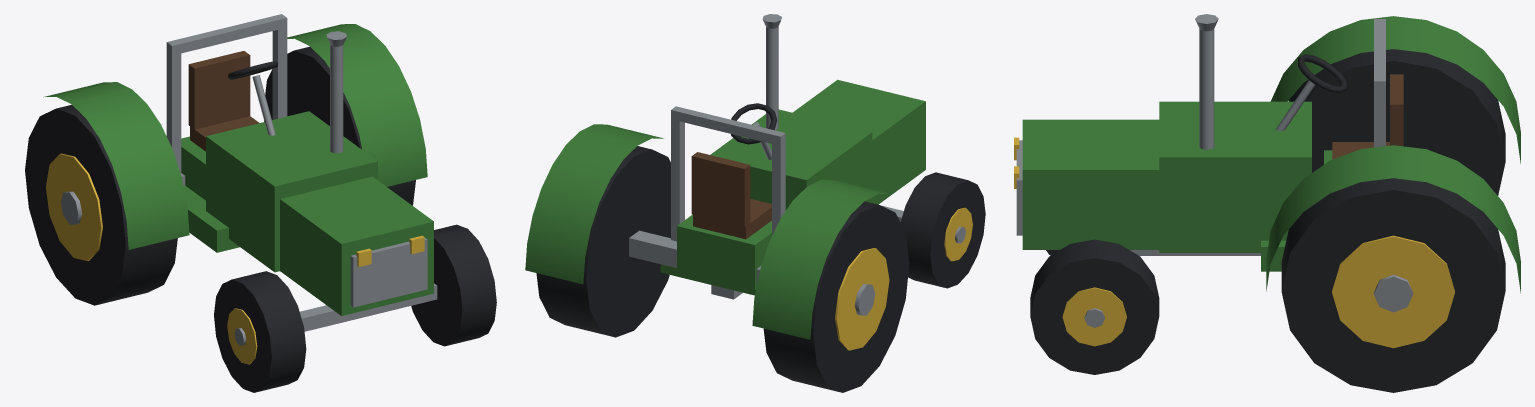
File: tractor.glb
3 renders of one model, left to right at view 1: azimuth 30°, elevation 25°; view 2: azimuth 150°, elevation 25°; view 3: azimuth 270°, elevation 25°, orthographic. The views are drawn at different scales.
Parts seen in each view (by area): view 1: body, wheel_rl_tyre, grille, wheel_fl_tyre, wheel_fr_tyre, seat, wheel_rr_tyre, wheel_rl_rim, axles, wheel_fl_rim, wheel_rl_hub, lights (+1 smaller); view 2: body, wheel_rr_tyre, wheel_rl_tyre, wheel_fl_tyre, grille, seat, wheel_rl_rim, axles, wheel_fl_rim, wheel_steer, wheel_rl_hub; view 3: body, wheel_rr_tyre, wheel_rl_tyre, wheel_fr_tyre, wheel_rr_rim, grille, wheel_fr_rim, seat, wheel_rr_hub, wheel_steer, axles.
Boxes of the visible parts, left/top/right/bottom form: body: left=43, top=24, right=433, bottom=315; wheel_rl_tyre: left=25, top=104, right=177, bottom=305; grille: left=166, top=14, right=427, bottom=307; wheel_fl_tyre: left=214, top=271, right=306, bottom=392; wheel_fr_tyre: left=411, top=224, right=496, bottom=346; seat: left=188, top=51, right=259, bottom=151; wheel_rr_tyre: left=264, top=46, right=415, bottom=205; wheel_rl_rim: left=45, top=153, right=102, bottom=261; axles: left=181, top=173, right=437, bottom=331; wheel_fl_rim: left=227, top=308, right=257, bottom=364; wheel_rl_hub: left=60, top=191, right=82, bottom=224; lights: left=356, top=235, right=424, bottom=267; body: left=525, top=79, right=925, bottom=339; wheel_rr_tyre: left=536, top=146, right=670, bottom=337; wheel_rl_tyre: left=763, top=201, right=909, bottom=392; wheel_fl_tyre: left=900, top=172, right=985, bottom=288; grille: left=671, top=14, right=785, bottom=241; seat: left=691, top=152, right=771, bottom=239; wheel_rl_rim: left=835, top=248, right=889, bottom=350; axles: left=629, top=205, right=903, bottom=299; wheel_fl_rim: left=944, top=207, right=972, bottom=261; wheel_steer: left=731, top=103, right=777, bottom=144; wheel_rl_hub: left=854, top=284, right=875, bottom=315; body: left=1022, top=16, right=1520, bottom=293; wheel_rr_tyre: left=1281, top=178, right=1505, bottom=392; wheel_rl_tyre: left=1288, top=49, right=1505, bottom=195; wheel_fr_tyre: left=1030, top=239, right=1159, bottom=374; wheel_rr_rim: left=1332, top=235, right=1454, bottom=348; grille: left=1016, top=14, right=1385, bottom=235; wheel_fr_rim: left=1062, top=287, right=1126, bottom=346; seat: left=1332, top=74, right=1403, bottom=159; wheel_rr_hub: left=1373, top=274, right=1413, bottom=312; wheel_steer: left=1298, top=54, right=1346, bottom=93; axles: left=1130, top=250, right=1260, bottom=255.
Size of the model in its own units: 2.29 by 2.03 by 2.99.
